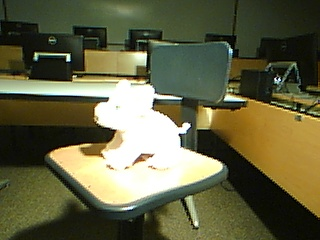piggy: (92, 78, 192, 174)
